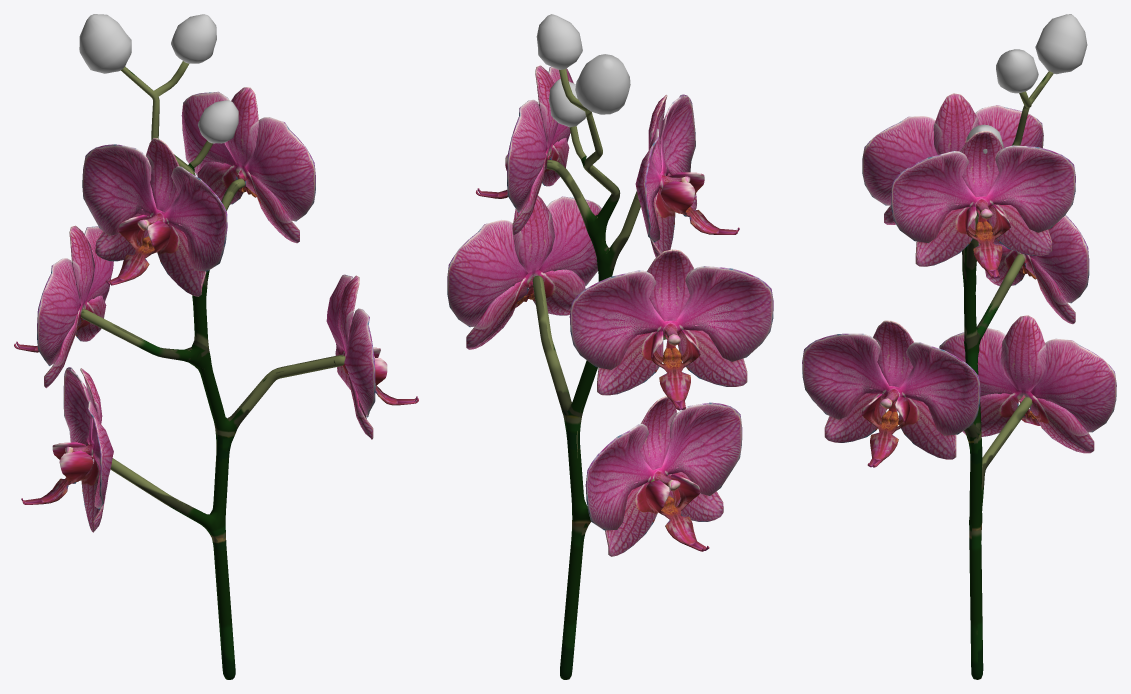
File: Orchid.fbx
3 renders of one model, left to right at view 1: azimuth 30°, elevation 25°; view 2: azimuth 150°, elevation 25°; view 3: azimuth 270°, elevation 25°, orthographic. The views are drawn at different scales.
Visible parts, largest first — view 1: Piantina_Orchidea; view 2: Piantina_Orchidea; view 3: Piantina_Orchidea.
Boxes of the visible parts, x1,y1,x2,y2 form: Piantina_Orchidea: [14, 14, 418, 679]; Piantina_Orchidea: [447, 14, 773, 679]; Piantina_Orchidea: [802, 14, 1116, 679].
Size of the model in its own units: 31.17 by 58.84 by 26.84.
